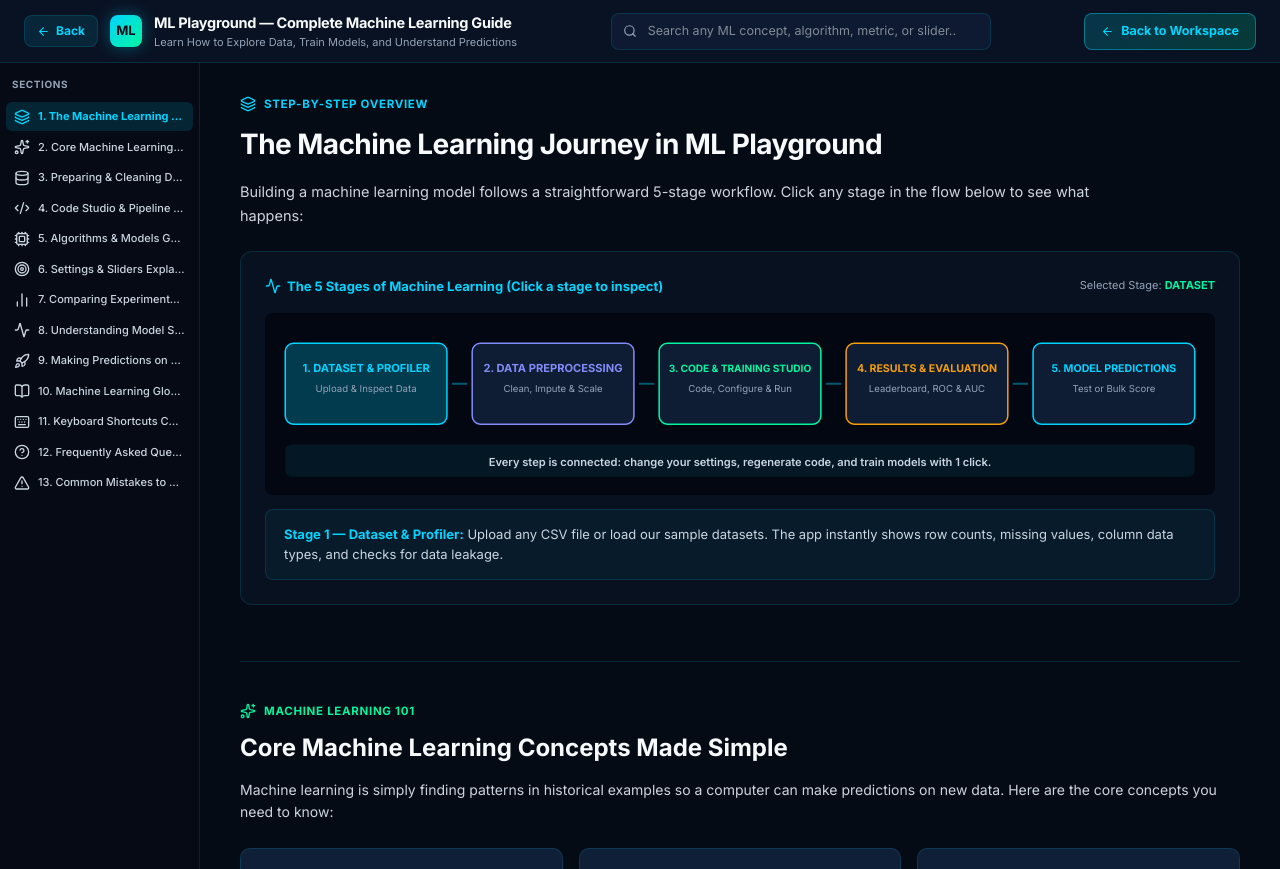
Test: UserGuidePage Component › filters glossary and FAQs when using the search bar
This screenshot has width=1280, height=869.
Type "Decision Threshold" into the field with test id "guide-search-input". click: (801, 31)
box: [611,13,991,50]
(page scrolled)
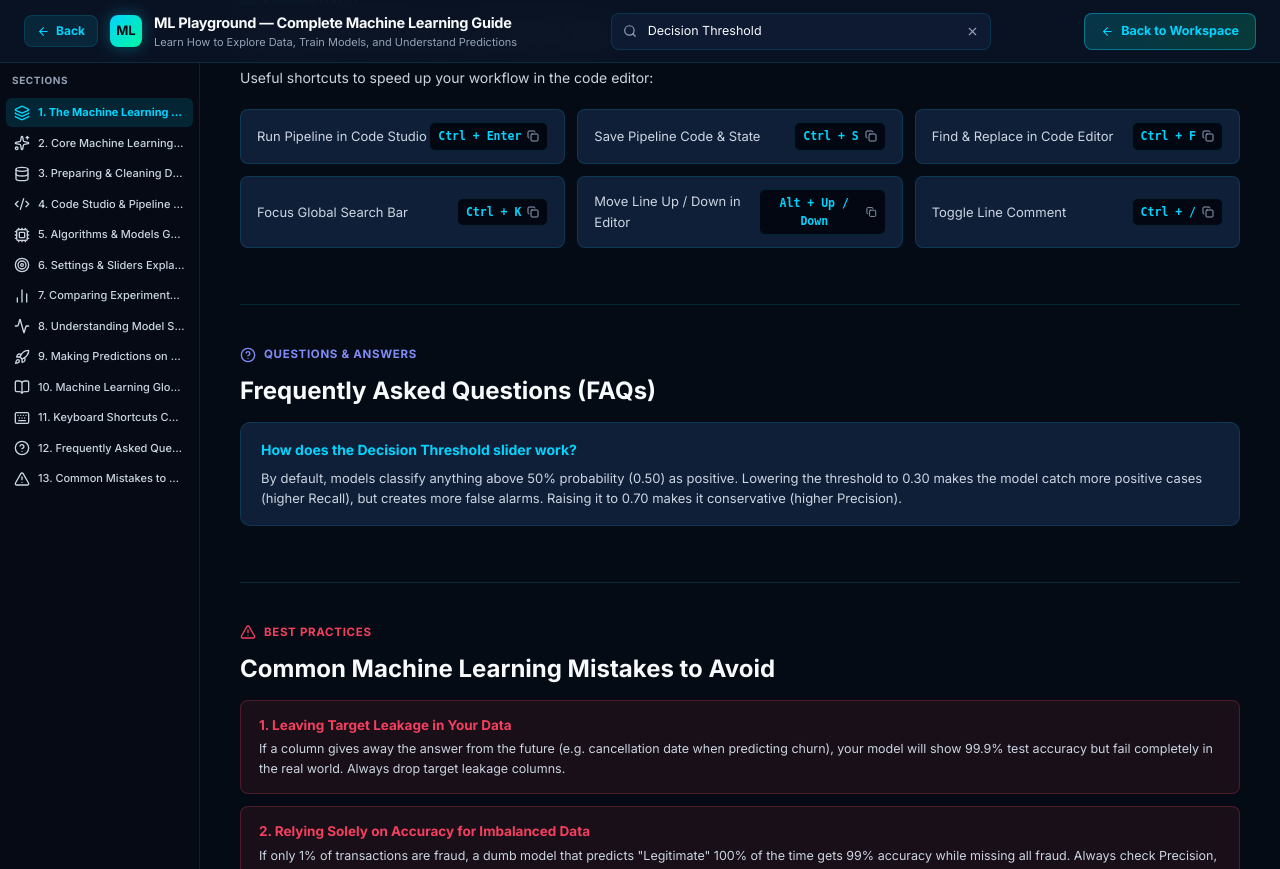
Expected: the text "How does the Decision Threshold slider work?" is shown, [261,441,577,458]
